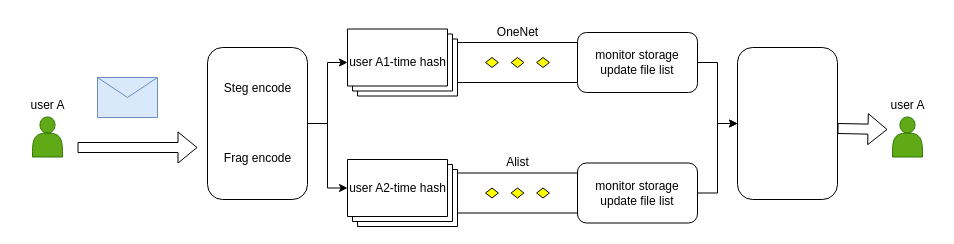
The diagram is 954 pixels wide and 244 high, and some of its shapes have lost their labels. The shapes that lost their labels are listed below. From the top down, each one's centre as x and y in pixels, then its label:
At [127,97]: "Plaintext message".
At [787,123]: "download Recombination message".
